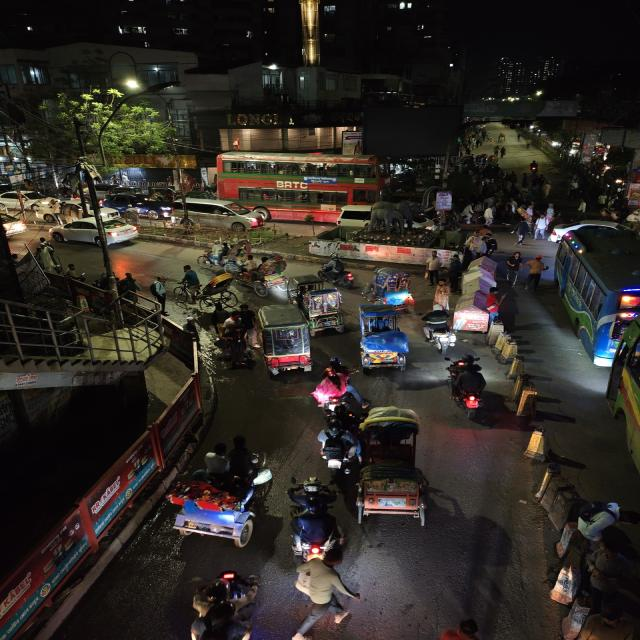bus: (551, 221, 640, 363), (212, 153, 380, 215), (604, 301, 640, 478)
car: (47, 215, 140, 249), (186, 199, 261, 232), (0, 188, 59, 213), (99, 192, 154, 214), (0, 208, 27, 238)
cng: (366, 266, 420, 308)
motorcycle: (285, 492, 345, 568), (310, 358, 356, 413), (448, 361, 490, 421), (419, 304, 462, 356), (315, 428, 351, 474), (319, 256, 360, 288)
pedestrian: (442, 252, 469, 294), (523, 255, 546, 291), (502, 252, 525, 286), (422, 251, 445, 284), (429, 280, 454, 310), (512, 215, 532, 247), (464, 232, 488, 258), (481, 201, 498, 229), (532, 212, 548, 240), (480, 234, 500, 256)
rickshaw: (351, 404, 438, 532), (166, 464, 269, 548), (251, 302, 316, 380), (354, 304, 413, 376), (287, 277, 348, 335), (180, 264, 241, 315), (366, 265, 420, 309), (243, 252, 294, 296)
